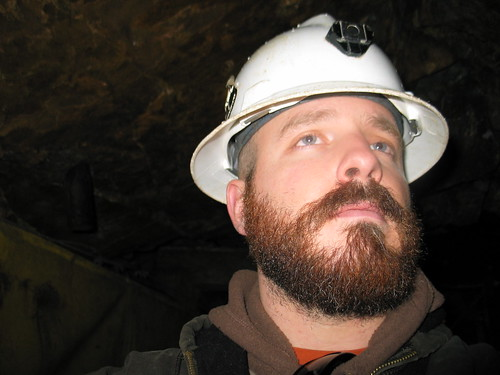person hardhat: (153, 12, 478, 375)
